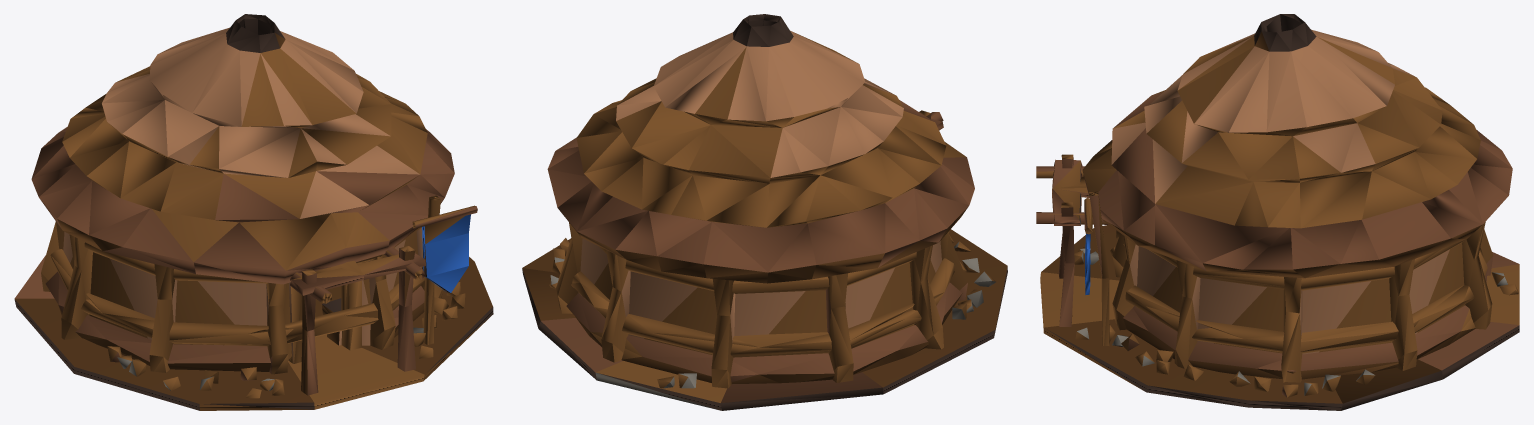
The model's file is building.dwelling_medium.glb.
The picture shows the model from 3 angles, left to right: view 1: azimuth 30°, elevation 25°; view 2: azimuth 150°, elevation 25°; view 3: azimuth 270°, elevation 25°; orthographic projection.
Parts seen in each view (by area): view 1: asset; view 2: asset; view 3: asset.
Boxes of the visible parts, left/top/right/bottom form: asset: left=14, top=14, right=493, bottom=410; asset: left=522, top=14, right=1007, bottom=410; asset: left=1036, top=14, right=1519, bottom=410.
Size of the model in its own units: 2 by 1.35 by 2.
